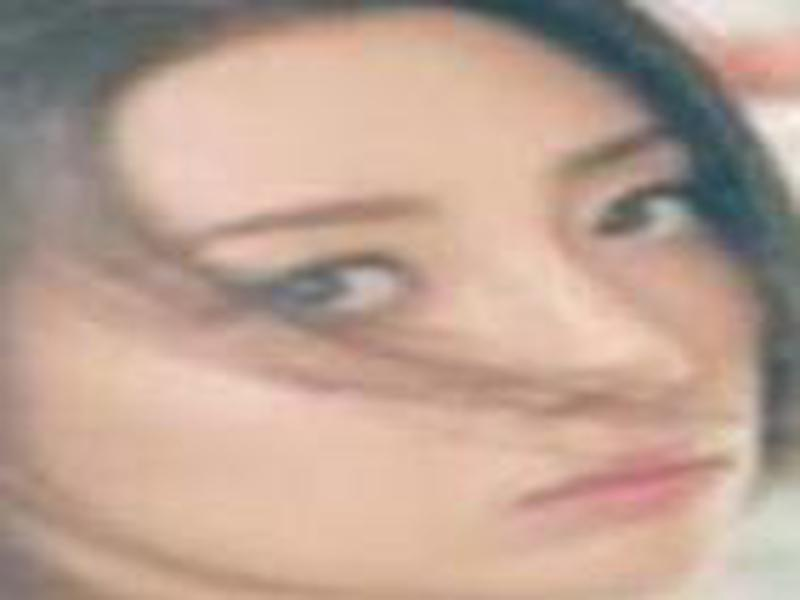without_mask: (36, 23, 768, 600)
